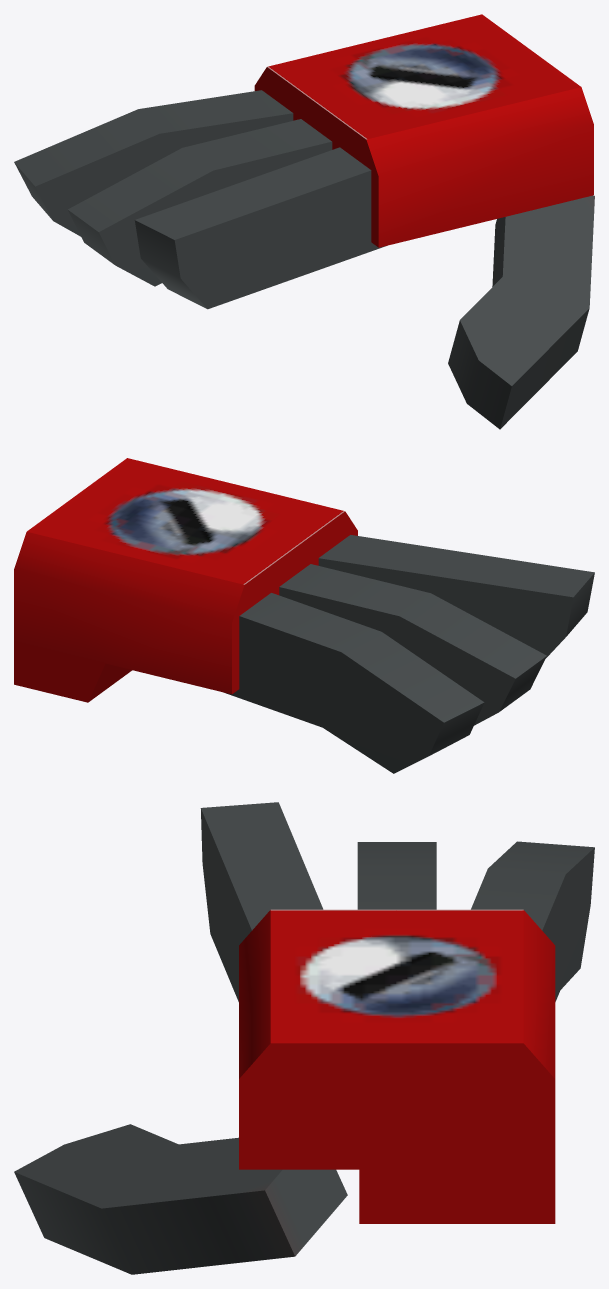
The picture shows the model from 3 angles, top to bottom: view 1: azimuth 30°, elevation 25°; view 2: azimuth 150°, elevation 25°; view 3: azimuth 270°, elevation 25°; orthographic projection. The views are drawn at different scales.
Visible parts, largest first — view 1: Joint_0_Object_1, Joint_0_Object_0; view 2: Joint_0_Object_1, Joint_0_Object_0; view 3: Joint_0_Object_0, Joint_0_Object_1.
Boxes of the visible parts, x1,y1,x2,y2 form: Joint_0_Object_1: [14, 90, 594, 429]; Joint_0_Object_0: [254, 14, 593, 247]; Joint_0_Object_1: [224, 535, 594, 773]; Joint_0_Object_0: [14, 458, 357, 702]; Joint_0_Object_0: [239, 909, 555, 1223]; Joint_0_Object_1: [14, 802, 594, 1274].
Size of the model in its own units: 63.59 by 31.12 by 54.54.
Materials: 2 (2 with a texture image).
